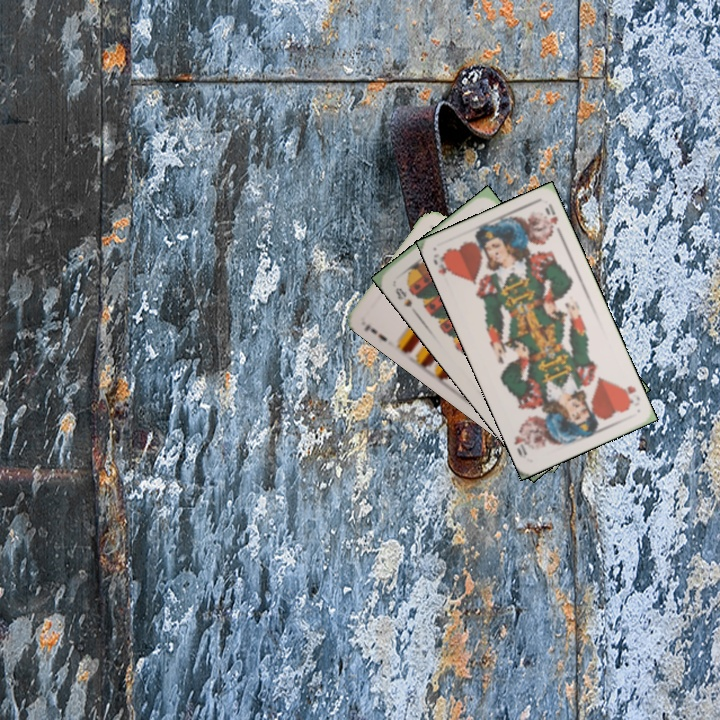E7: (360, 320, 390, 344)
HO: (429, 249, 455, 278), (617, 382, 643, 411)
S8: (391, 283, 415, 310)
